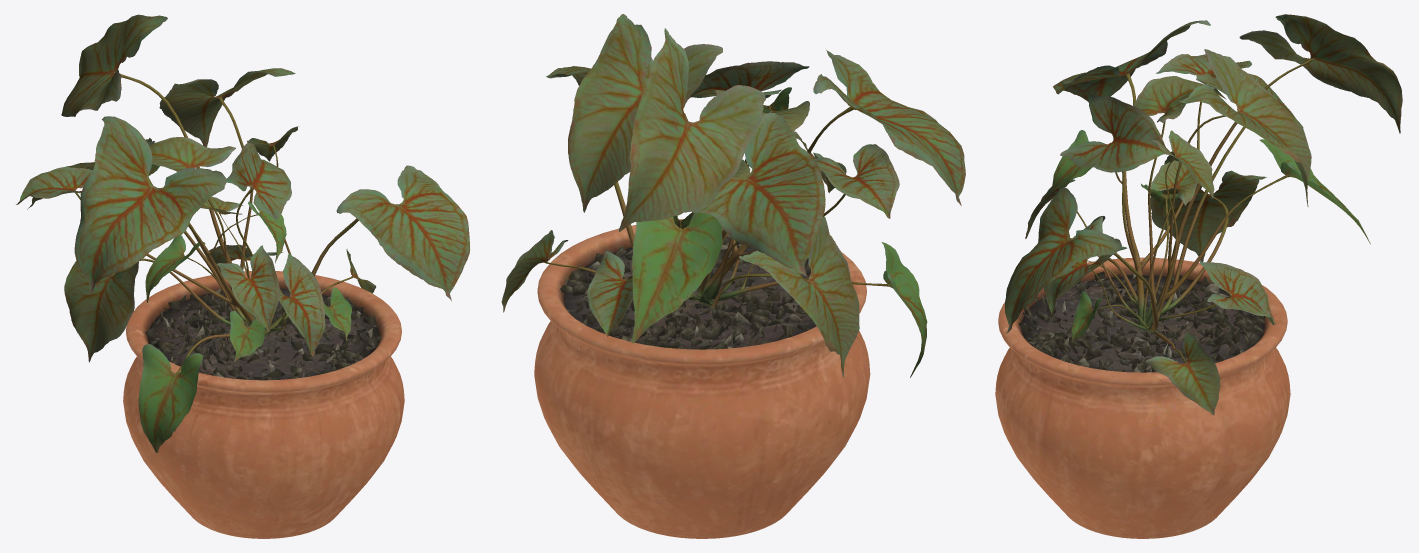
The model's file is plant.glb.
3 views of the same model, side by side, from view 1: azimuth 30°, elevation 25°; view 2: azimuth 150°, elevation 25°; view 3: azimuth 270°, elevation 25° (orthographic). The views are drawn at different scales.
Parts seen in each view (by area): view 1: leaves, pot, dirt; view 2: leaves, pot, dirt; view 3: leaves, pot, dirt.
Boxes of the visible parts, left/top/right/bottom form: leaves: left=16, top=14, right=470, bottom=452; pot: left=123, top=271, right=404, bottom=538; dirt: left=145, top=288, right=381, bottom=380; leaves: left=501, top=14, right=965, bottom=377; pot: left=534, top=219, right=870, bottom=538; dirt: left=560, top=235, right=816, bottom=349; leaves: left=1005, top=14, right=1402, bottom=415; pot: left=995, top=257, right=1290, bottom=538; dirt: left=1018, top=271, right=1264, bottom=372.
Size of the model in its own units: 0.7005 by 0.8412 by 0.6574.
2 materials, 2 textured.
